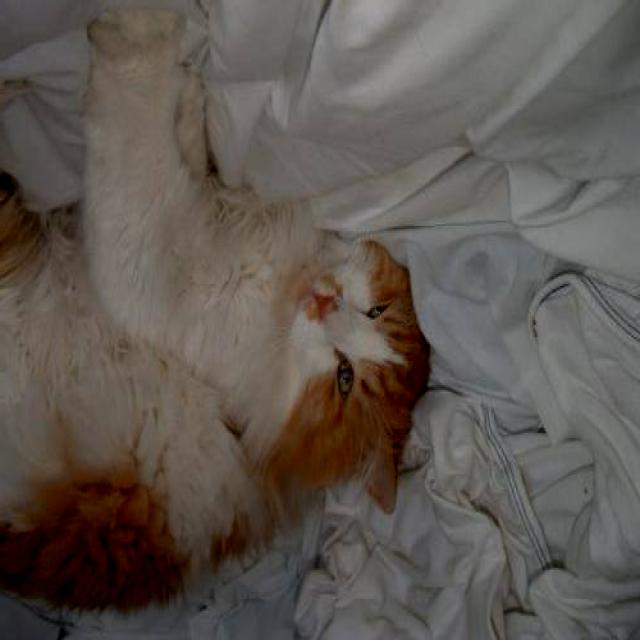Kucing: (0, 0, 445, 612)
